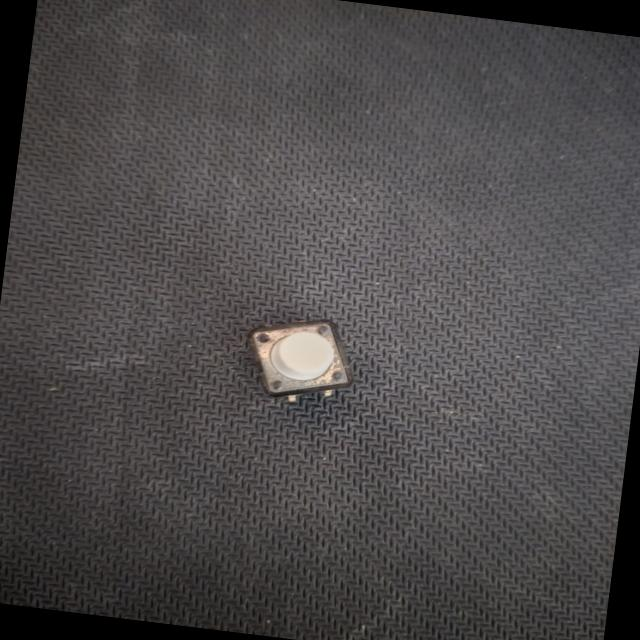switch: (237, 304, 373, 418)
